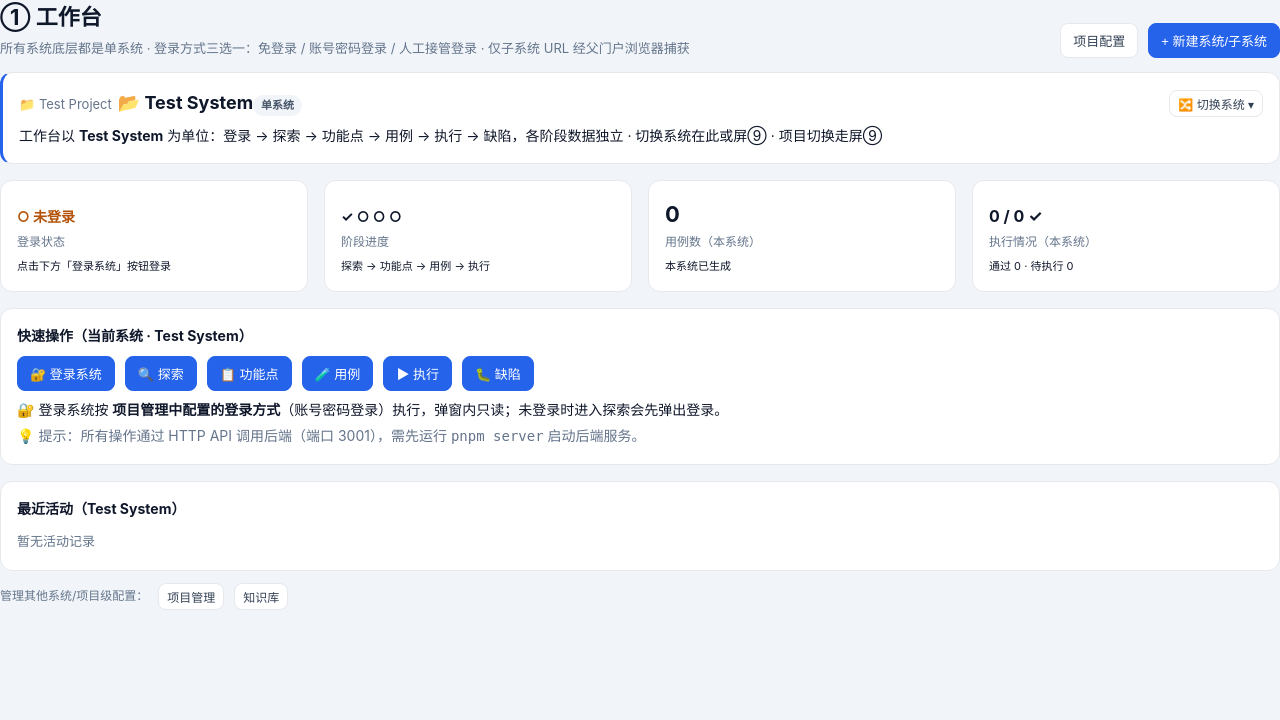
Test: Workbench 工作台 › 点击登录按钮应打开登录弹窗
This screenshot has width=1280, height=720.
Click the button "🔐 登录系统" at (66, 374), box left=17, top=356, right=115, bottom=391
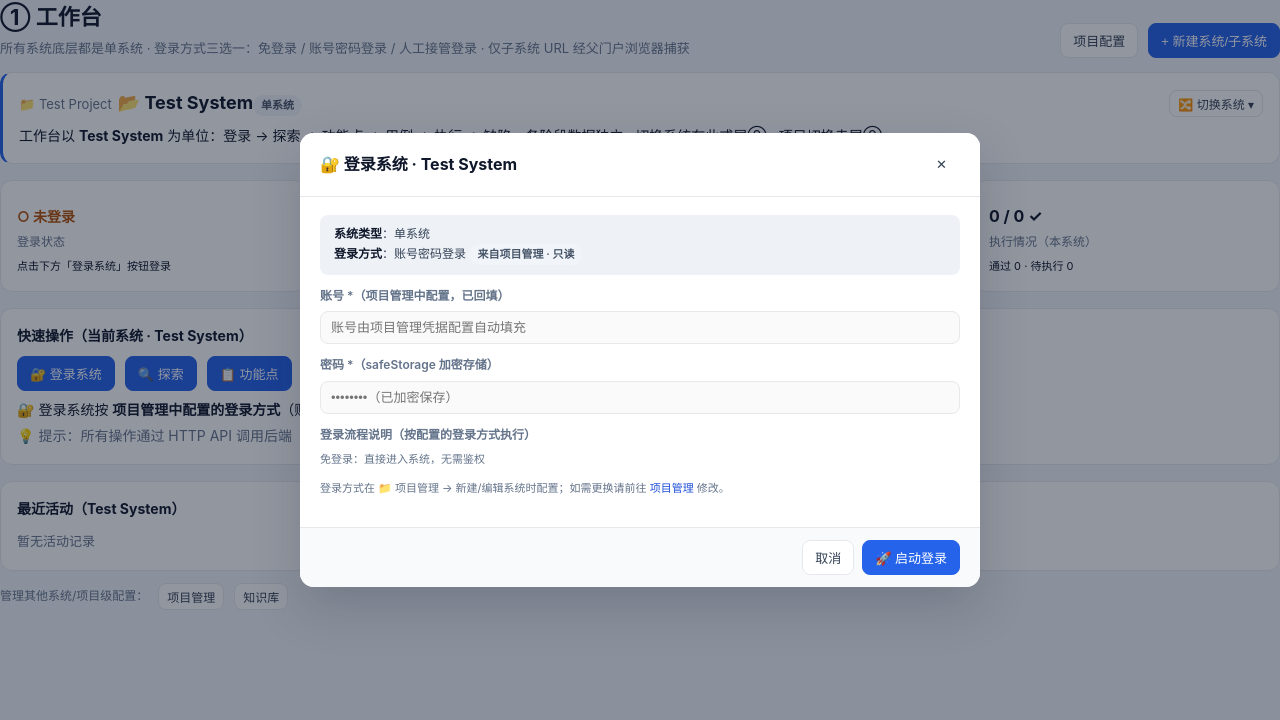
Result: the button "🚀 启动登录" is shown at left=862, top=540, right=960, bottom=575
